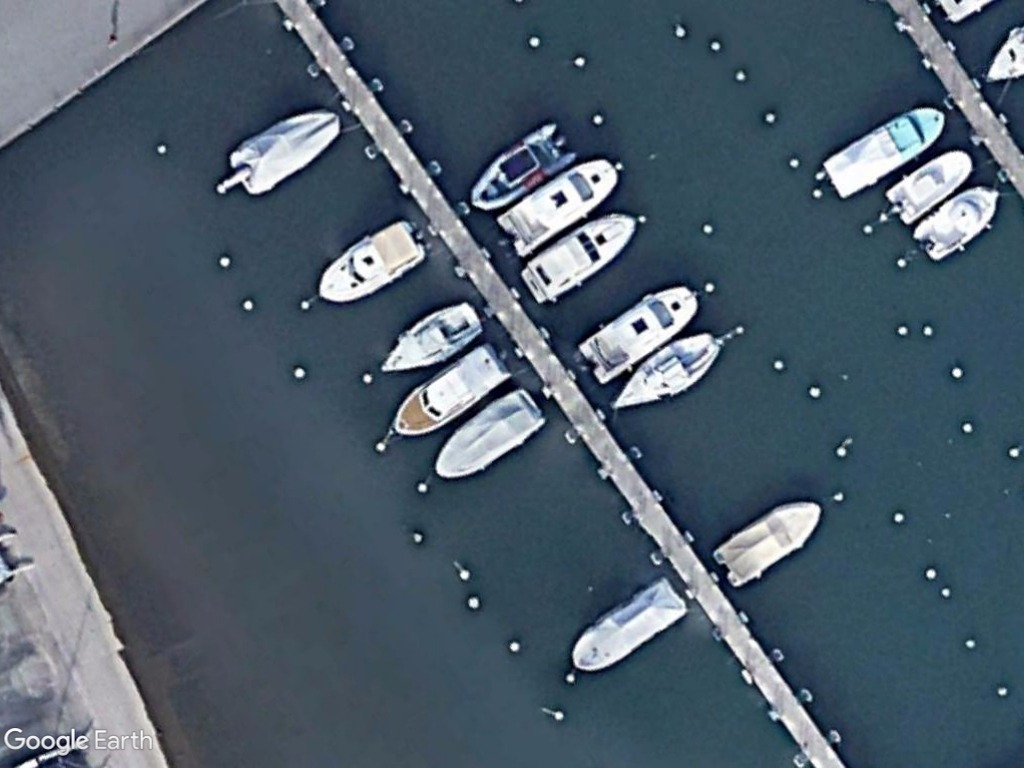boat: (382, 340, 515, 443), (496, 158, 622, 258), (575, 288, 705, 384), (427, 388, 548, 484), (821, 109, 946, 201), (569, 578, 690, 672), (518, 213, 639, 305), (226, 108, 343, 197), (313, 217, 432, 304), (467, 123, 583, 212), (710, 501, 825, 587), (607, 334, 725, 416), (381, 299, 487, 376), (882, 150, 976, 225), (911, 187, 1002, 263)
